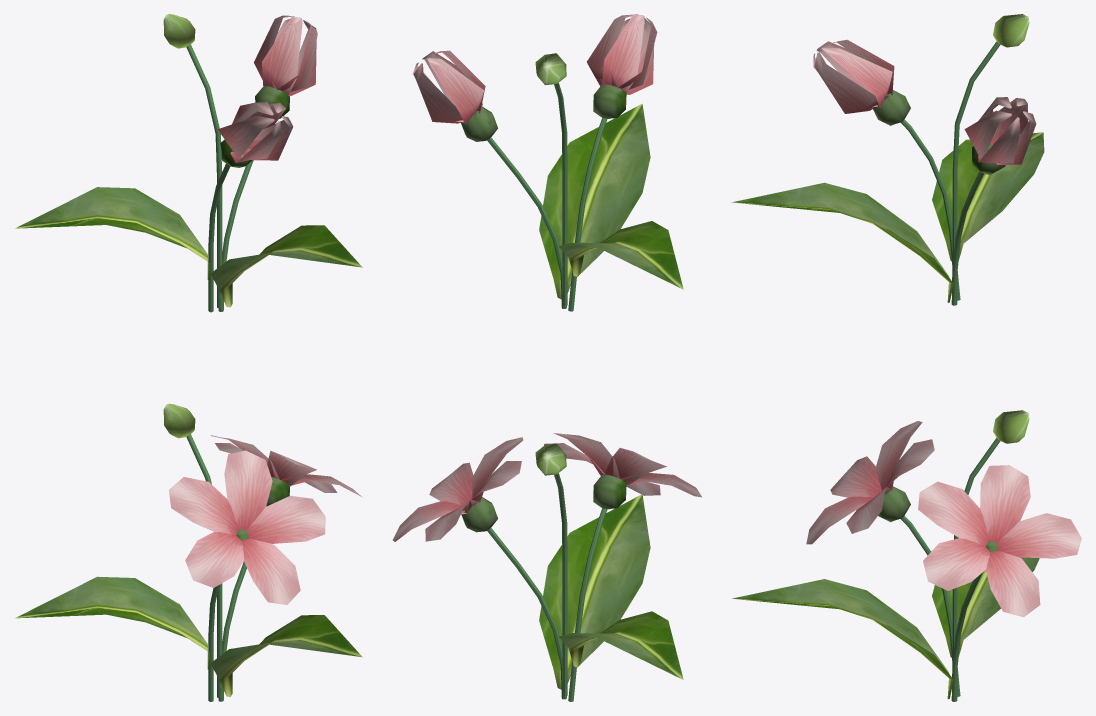
File: pinkFlowers.fbx
3 renders of one model, left to right at view 1: azimuth 30°, elevation 25°; view 2: azimuth 150°, elevation 25°; view 3: azimuth 270°, elevation 25°, orthographic.
Parts seen in each view (by area): view 1: pink_flowers, pink_flowers_night; view 2: pink_flowers, pink_flowers_night; view 3: pink_flowers, pink_flowers_night.
Boxes of the visible parts, x1,y1,x2,y2 form: pink_flowers: [15, 403, 362, 701]; pink_flowers_night: [15, 14, 362, 312]; pink_flowers: [392, 433, 701, 701]; pink_flowers_night: [412, 14, 683, 311]; pink_flowers: [732, 410, 1081, 701]; pink_flowers_night: [732, 14, 1044, 305].
Size of the model in its own units: 12.92 by 27.15 by 12.74.
1 material, 1 textured.
